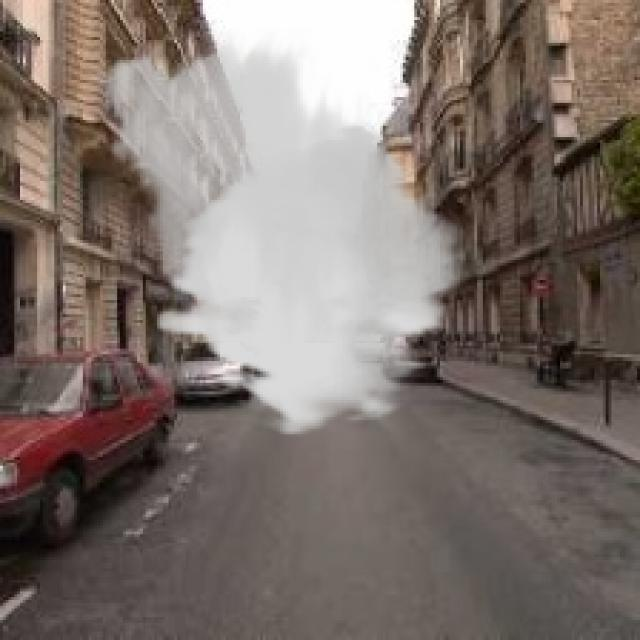Smoke: (86, 29, 466, 438)
